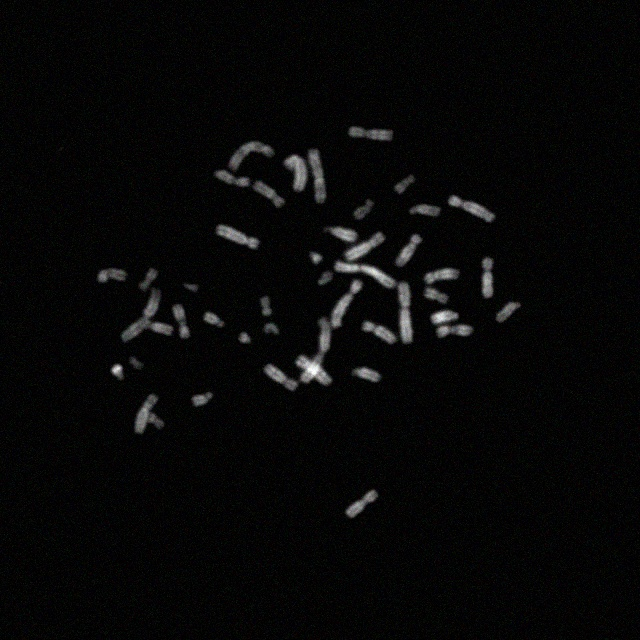chromosome: (123, 288, 162, 342), (301, 318, 331, 382), (336, 260, 396, 288), (332, 279, 362, 327), (228, 142, 274, 170), (449, 196, 495, 222), (346, 233, 386, 260), (296, 356, 332, 386), (216, 225, 258, 249), (252, 182, 286, 208), (135, 393, 157, 433), (347, 490, 378, 518), (284, 156, 308, 192), (310, 150, 326, 202), (396, 234, 422, 266), (362, 321, 396, 345), (264, 366, 296, 390), (400, 282, 412, 342), (348, 126, 394, 140), (212, 171, 250, 187), (174, 304, 190, 338), (424, 270, 460, 284), (496, 302, 520, 322), (438, 324, 472, 338), (98, 268, 127, 284), (350, 368, 380, 382), (483, 258, 493, 298), (139, 267, 157, 289), (150, 318, 172, 336), (353, 200, 372, 220), (330, 228, 356, 242), (395, 176, 415, 194), (410, 205, 440, 217), (204, 311, 224, 329), (431, 312, 459, 324), (424, 288, 448, 302), (192, 392, 213, 406), (128, 355, 144, 371), (148, 413, 164, 429), (261, 296, 273, 316), (112, 363, 124, 382), (318, 270, 332, 286), (309, 251, 323, 265), (263, 324, 279, 336), (238, 332, 250, 344), (184, 282, 198, 292)
